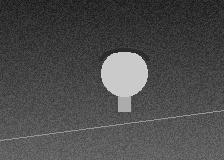no_helmet: (101, 48, 147, 101)
